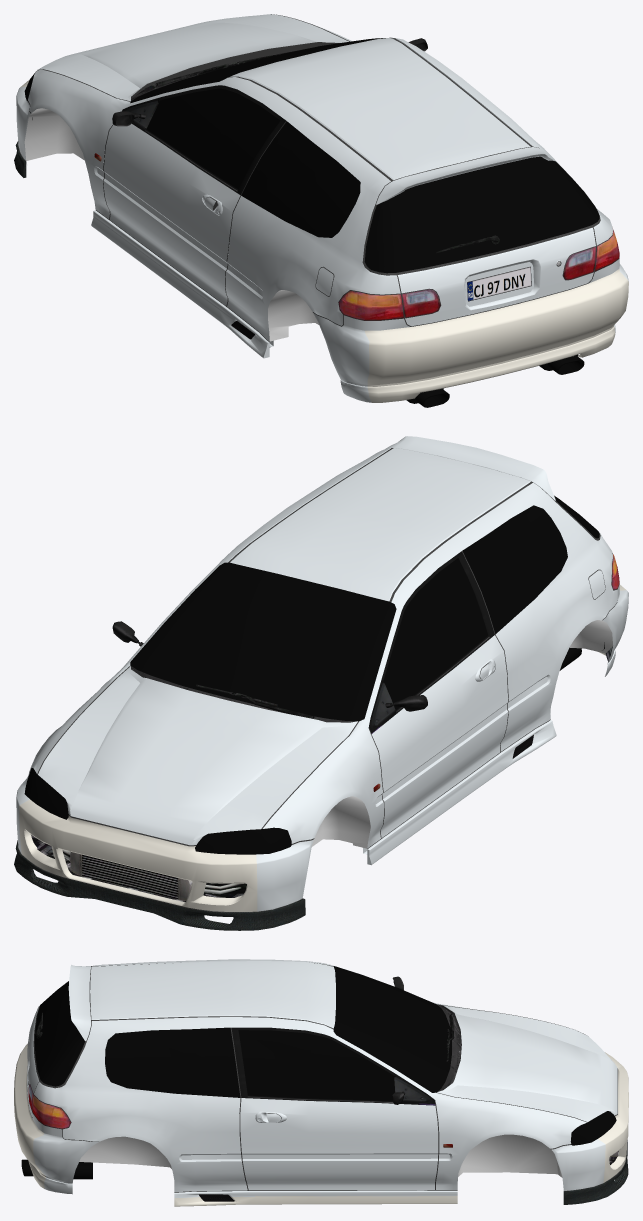
The model's file is civic.fbx.
The picture shows the model from 3 angles, top to bottom: view 1: azimuth 30°, elevation 25°; view 2: azimuth 150°, elevation 25°; view 3: azimuth 270°, elevation 25°; orthographic projection. The views are drawn at different scales.
Visible parts, largest first — view 1: body_LOD0; view 2: body_LOD0; view 3: body_LOD0.
Boxes of the visible parts, x1,y1,x2,y2 form: body_LOD0: (14,14,628,407); body_LOD0: (14,436,628,930); body_LOD0: (14,959,628,1206).
Size of what is drawn, in the model's own units: 207 by 130 by 442.
